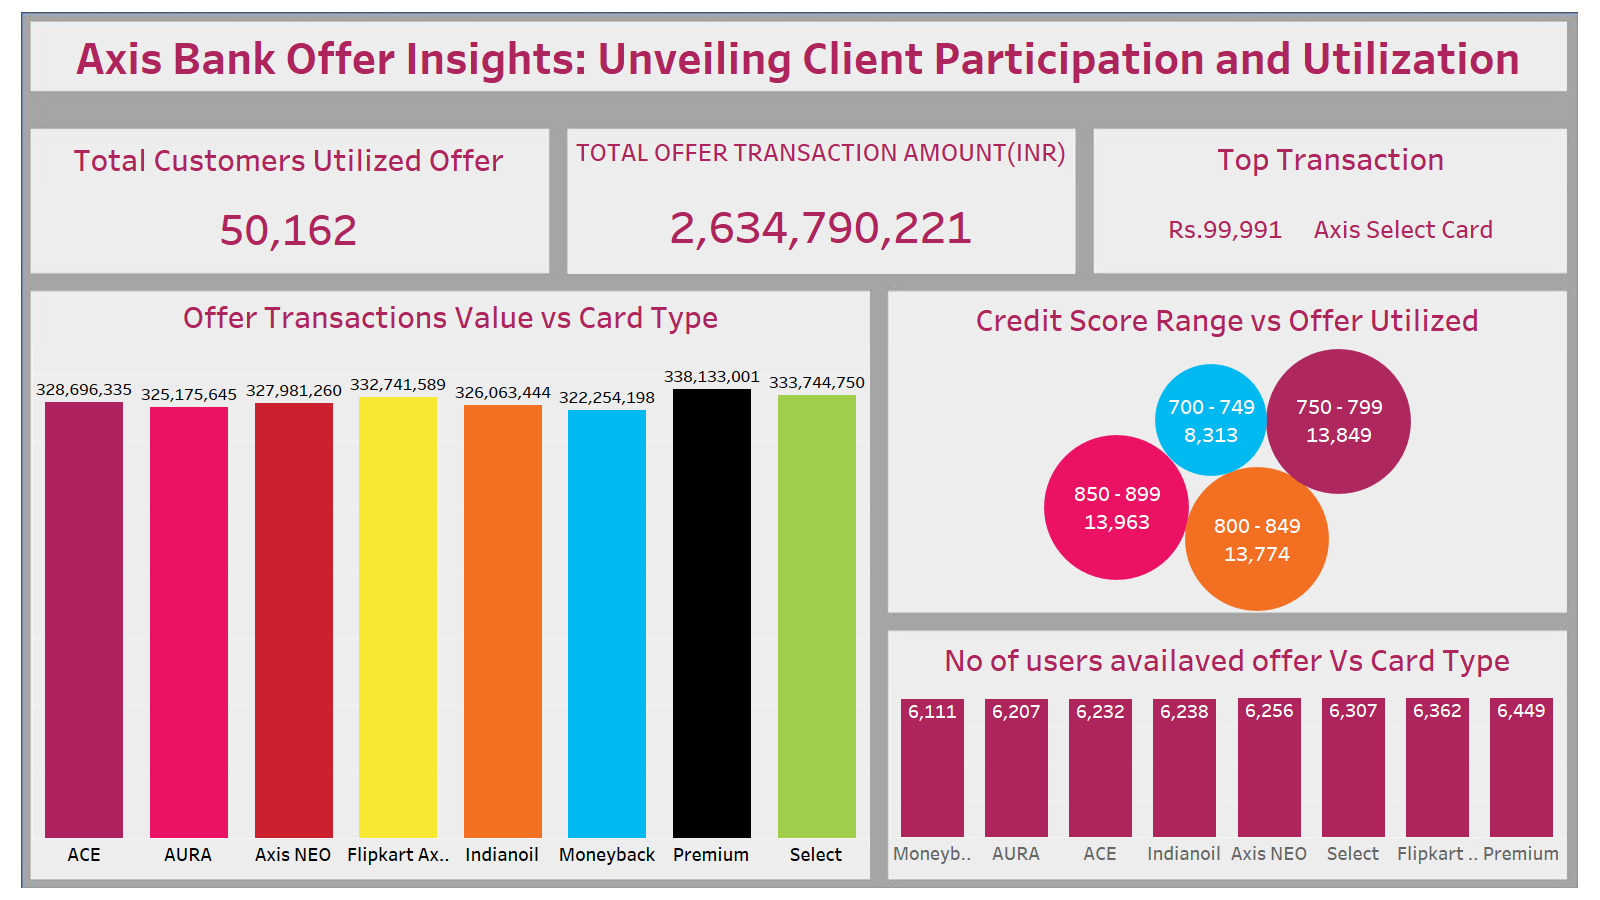

This screenshot's page, from the dashboard's own definition file:
{"tool":"tableau","page":{"name":"Axis Bank Offer Insights: Unveiling Client Participation and Utilization","canvas":[1600,900],"ordinal":0},"visuals":[{"type":"image","param":"E:/Development/BIGDATA/BACKGROUND.jpg","box":[8,8,1584,884]},{"type":"text","box":[29,22,1538,68]},{"type":"worksheet","title":"TOTAL OFFER TRANSACTION AMOUNT(INR)","mark":"Text","box":[568,129,506,144]},{"type":"worksheet","title":"Top Transaction","mark":"Automatic","box":[1098,131,466,139]},{"type":"worksheet","title":"Total Customers Utilized Offer","mark":"Text","box":[32,132,513,138]},{"type":"worksheet","title":"Offer Transactions Value vs Card Type","mark":"Automatic","cols":["Credit_Card_Type"],"box":[32,289,837,589]},{"type":"worksheet","title":"Credit Score Range vs Offer Utilized","mark":"Circle","box":[890,292,675,319]},{"type":"worksheet","title":"No of users availaved offer Vs Card Type","mark":"Bar","rows":["offer_utilized.csv_2A23E03966614681A2F1C546CB55A28F"],"cols":["Credit_Card_Type"],"box":[890,632,674,245]}]}

Visuals, with their boxes in screenshot pixels (x1, y1, x2, y2), scaled from the page's 1600x900 canvas onto the 1600x900 screenshot:
image: (x1=8, y1=8, x2=1592, y2=892)
text: (x1=29, y1=22, x2=1567, y2=90)
"TOTAL OFFER TRANSACTION AMOUNT(INR)" worksheet (Text marks): (x1=568, y1=129, x2=1074, y2=273)
"Top Transaction" worksheet: (x1=1098, y1=131, x2=1564, y2=270)
"Total Customers Utilized Offer" worksheet (Text marks): (x1=32, y1=132, x2=545, y2=270)
"Offer Transactions Value vs Card Type" worksheet: (x1=32, y1=289, x2=869, y2=878)
"Credit Score Range vs Offer Utilized" worksheet (Circle marks): (x1=890, y1=292, x2=1565, y2=611)
"No of users availaved offer Vs Card Type" worksheet (Bar marks): (x1=890, y1=632, x2=1564, y2=877)
